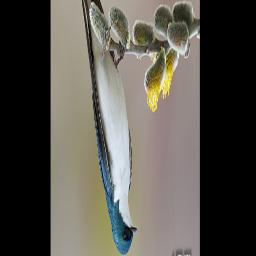Swallow: (76, 0, 138, 256)
